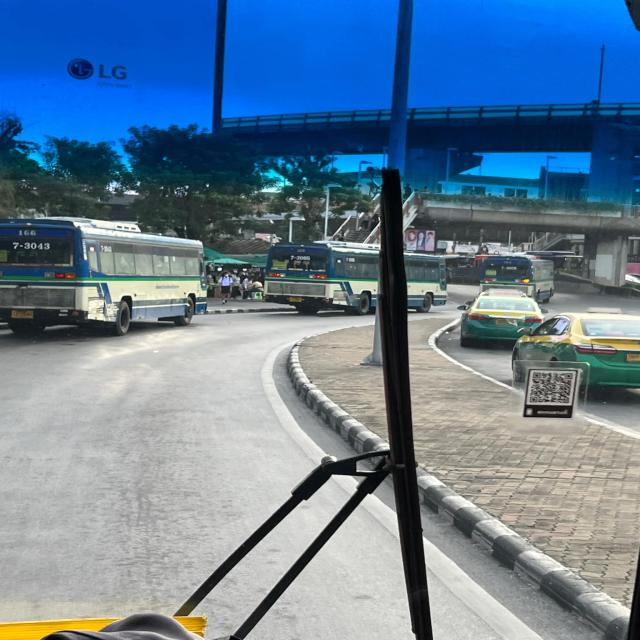BMTA-bus: (0, 213, 211, 339), (255, 236, 451, 317), (475, 253, 558, 303)
